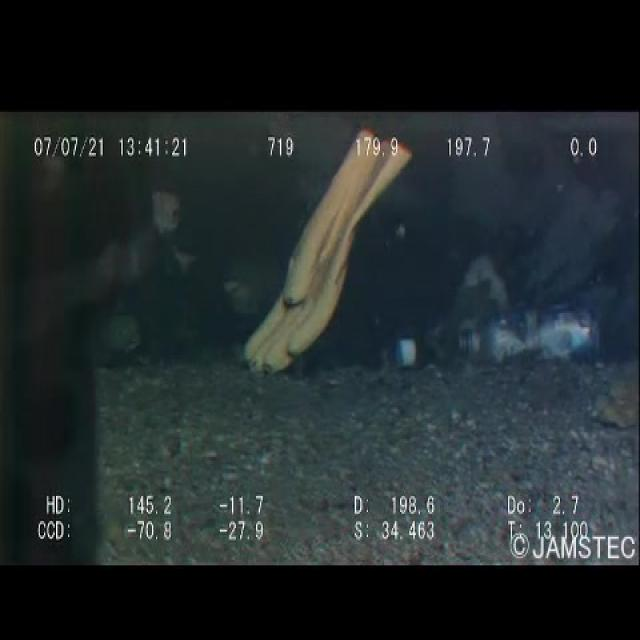plastic: (389, 304, 491, 386)
